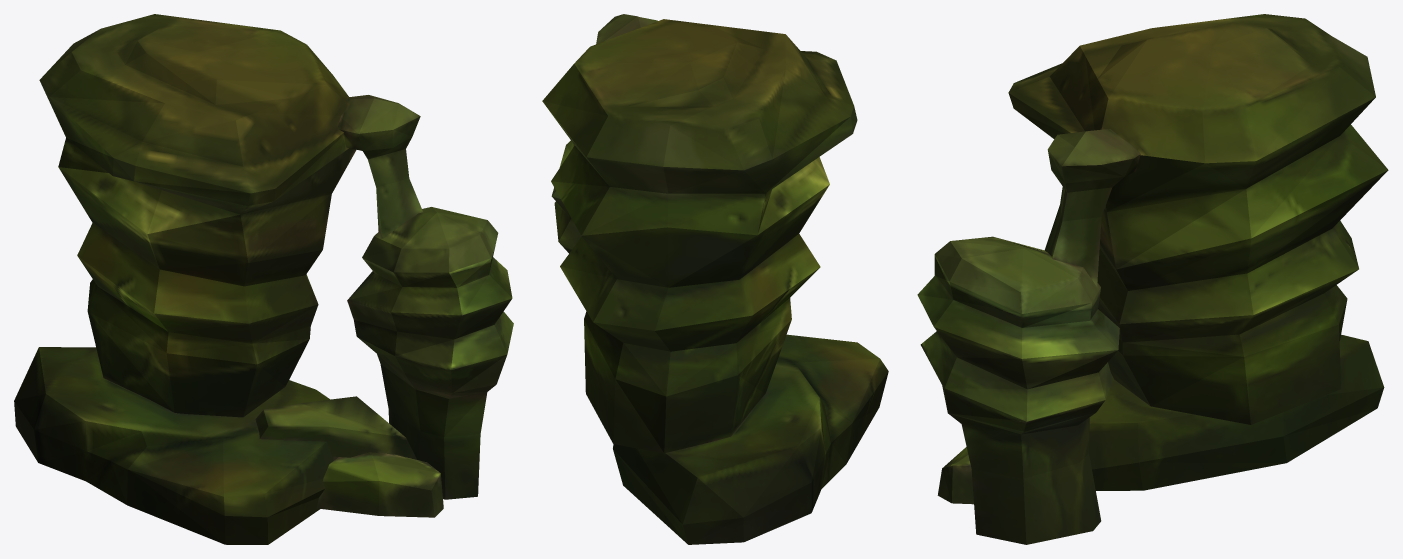
The model's file is Swamp_shitou05.FBX.
3 renders of one model, left to right at view 1: azimuth 30°, elevation 25°; view 2: azimuth 150°, elevation 25°; view 3: azimuth 270°, elevation 25°, orthographic. The views are drawn at different scales.
Parts seen in each view (by area): view 1: shitou05; view 2: shitou05; view 3: shitou05.
Part boxes in pixels (<box>): shitou05: <box>14,14,513,544</box>; shitou05: <box>542,14,888,544</box>; shitou05: <box>917,14,1388,544</box>.
Size of the model in its own units: 204 by 214 by 223.
